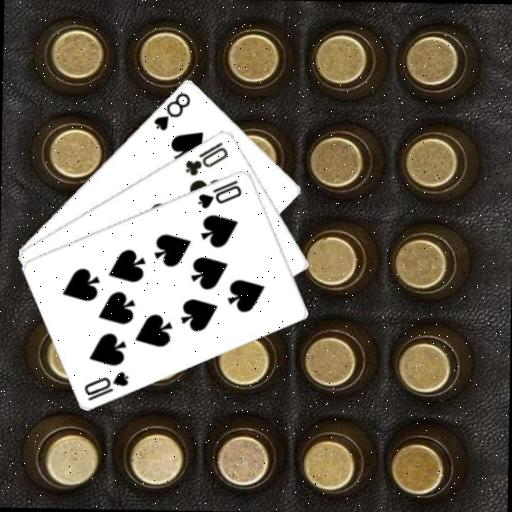10C: (182, 137, 230, 178)
10S: (80, 367, 130, 403), (194, 177, 244, 211)
8S: (150, 89, 192, 133)
